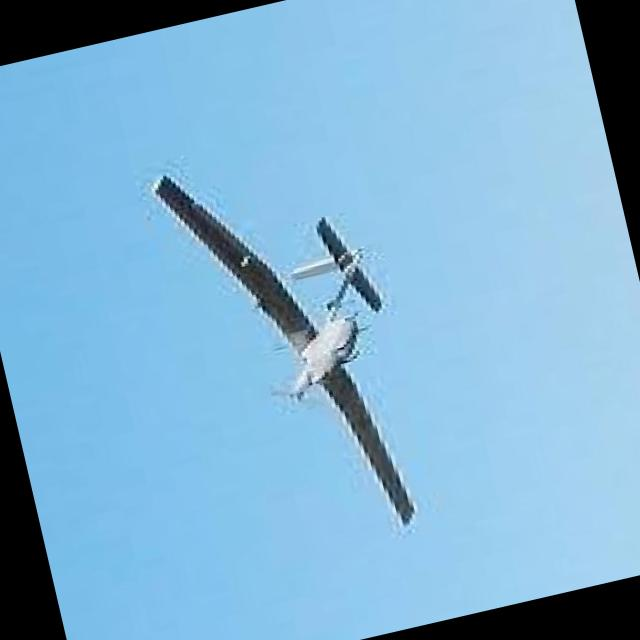UAV: (132, 136, 452, 575)
